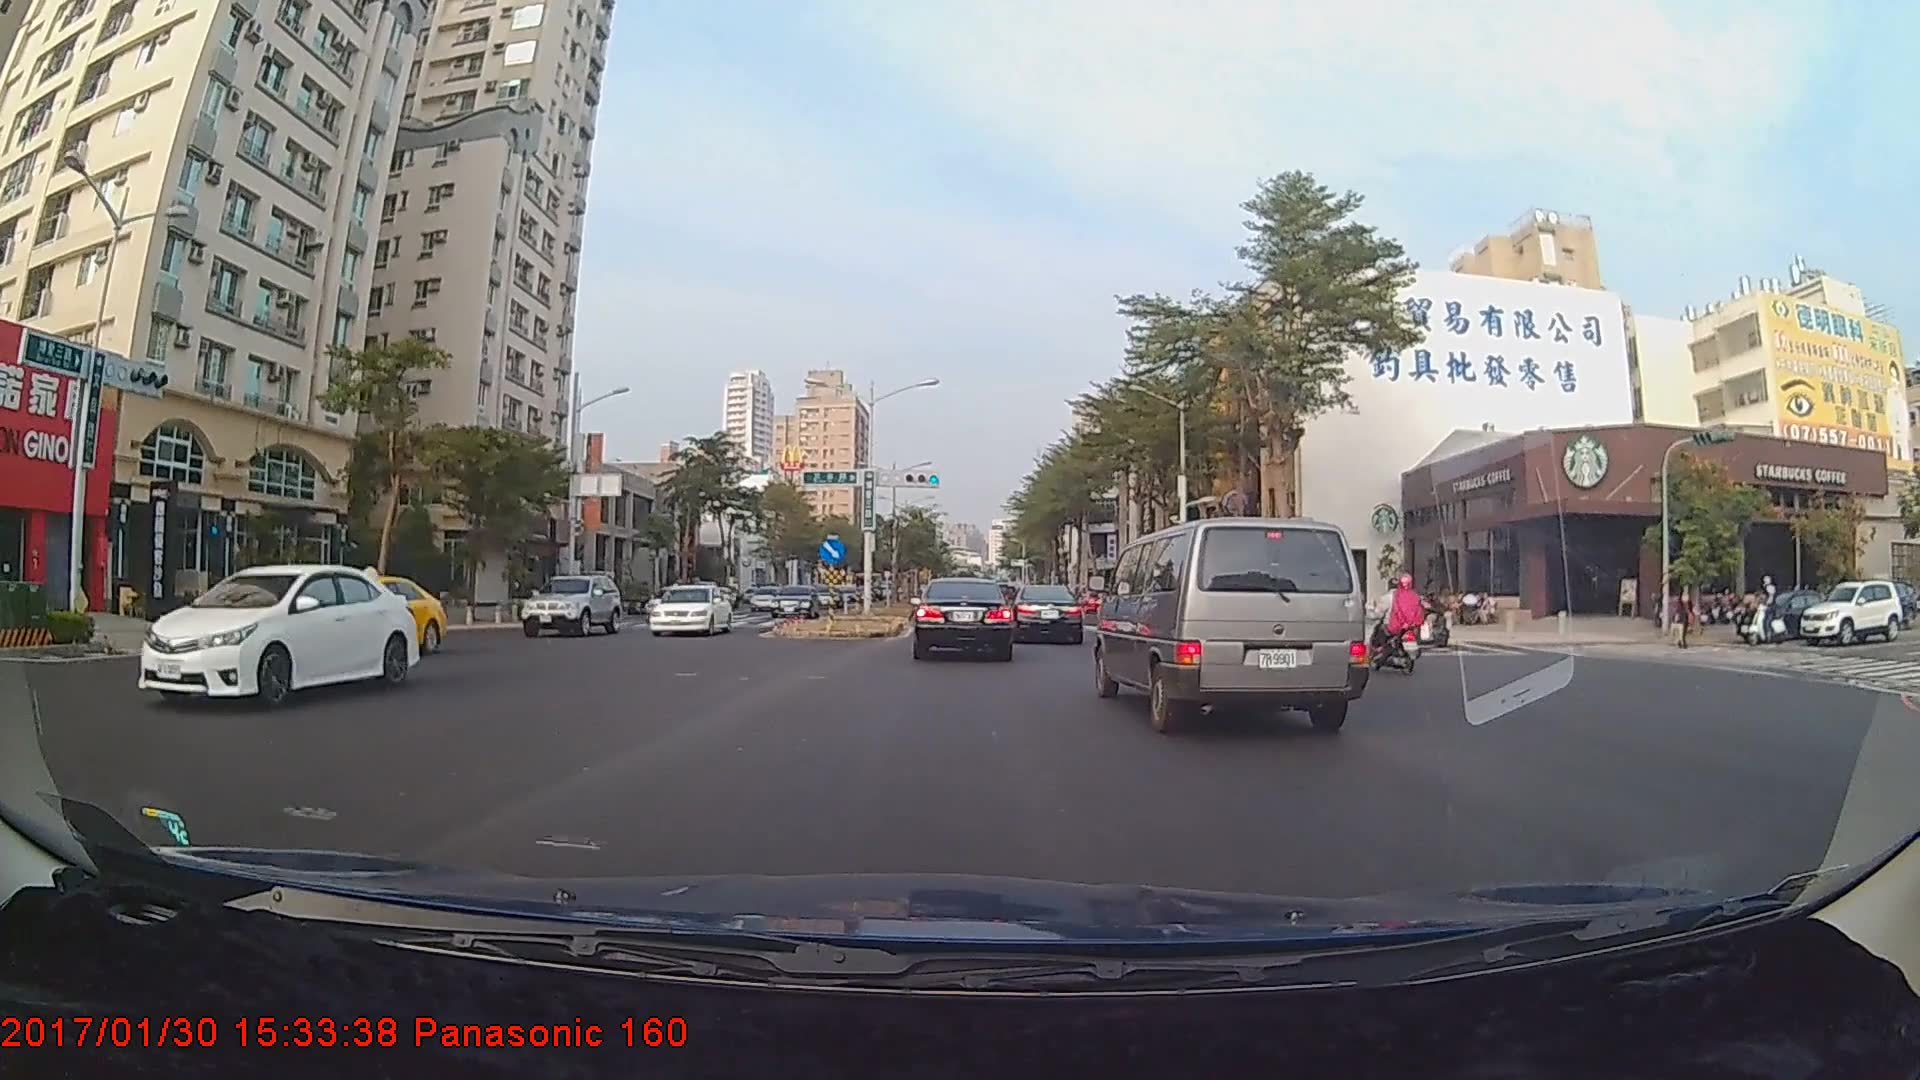pedestrian: (1676, 585, 1696, 651)
rider: (1364, 572, 1435, 675), (1743, 580, 1792, 648)
vehicle: (1102, 513, 1360, 732), (134, 561, 420, 707), (912, 577, 1014, 661), (1796, 582, 1907, 643), (518, 569, 617, 635), (645, 582, 731, 636), (1014, 583, 1084, 645), (766, 584, 822, 617)
